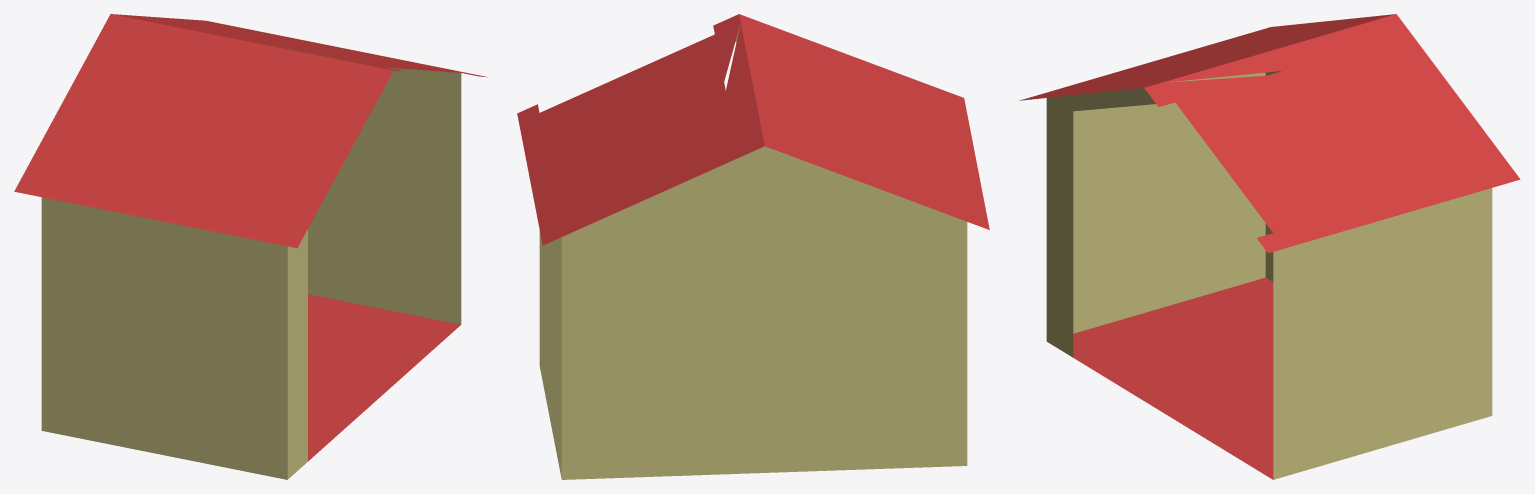
The picture shows the model from 3 angles, left to right: view 1: azimuth 30°, elevation 25°; view 2: azimuth 150°, elevation 25°; view 3: azimuth 270°, elevation 25°; orthographic projection. The views are drawn at different scales.
Bounding box in the file's own units: 13.16 × 12.34 × 8.9.
